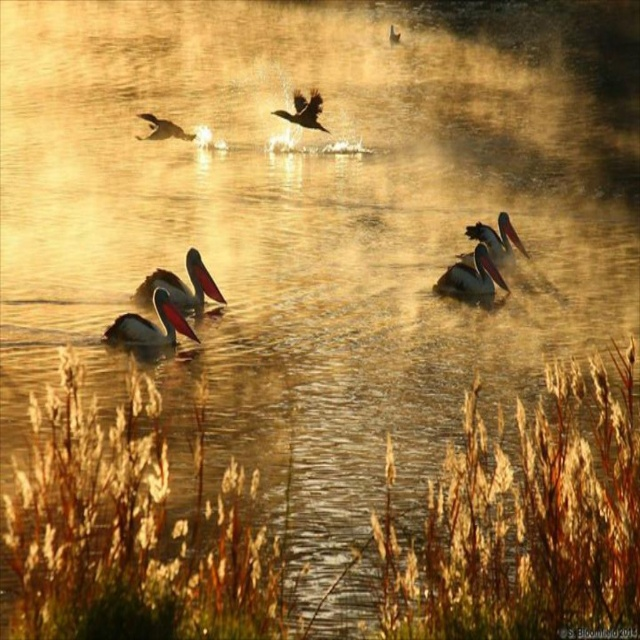Duck: (95, 284, 210, 369), (128, 246, 227, 325), (453, 211, 530, 270), (274, 80, 328, 136), (132, 109, 200, 143)
